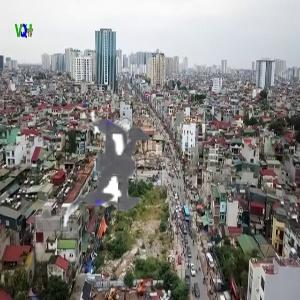drone: (8, 51, 231, 274)
